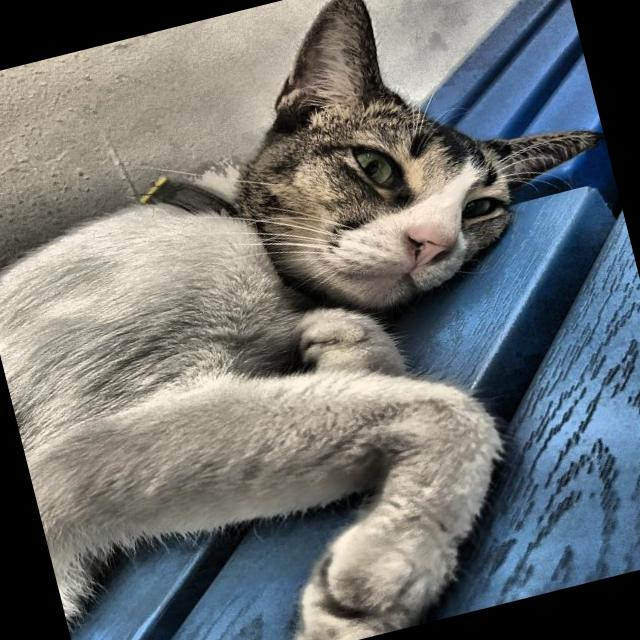Healthy skin: (245, 450, 512, 640), (144, 204, 357, 402), (210, 0, 421, 178)
